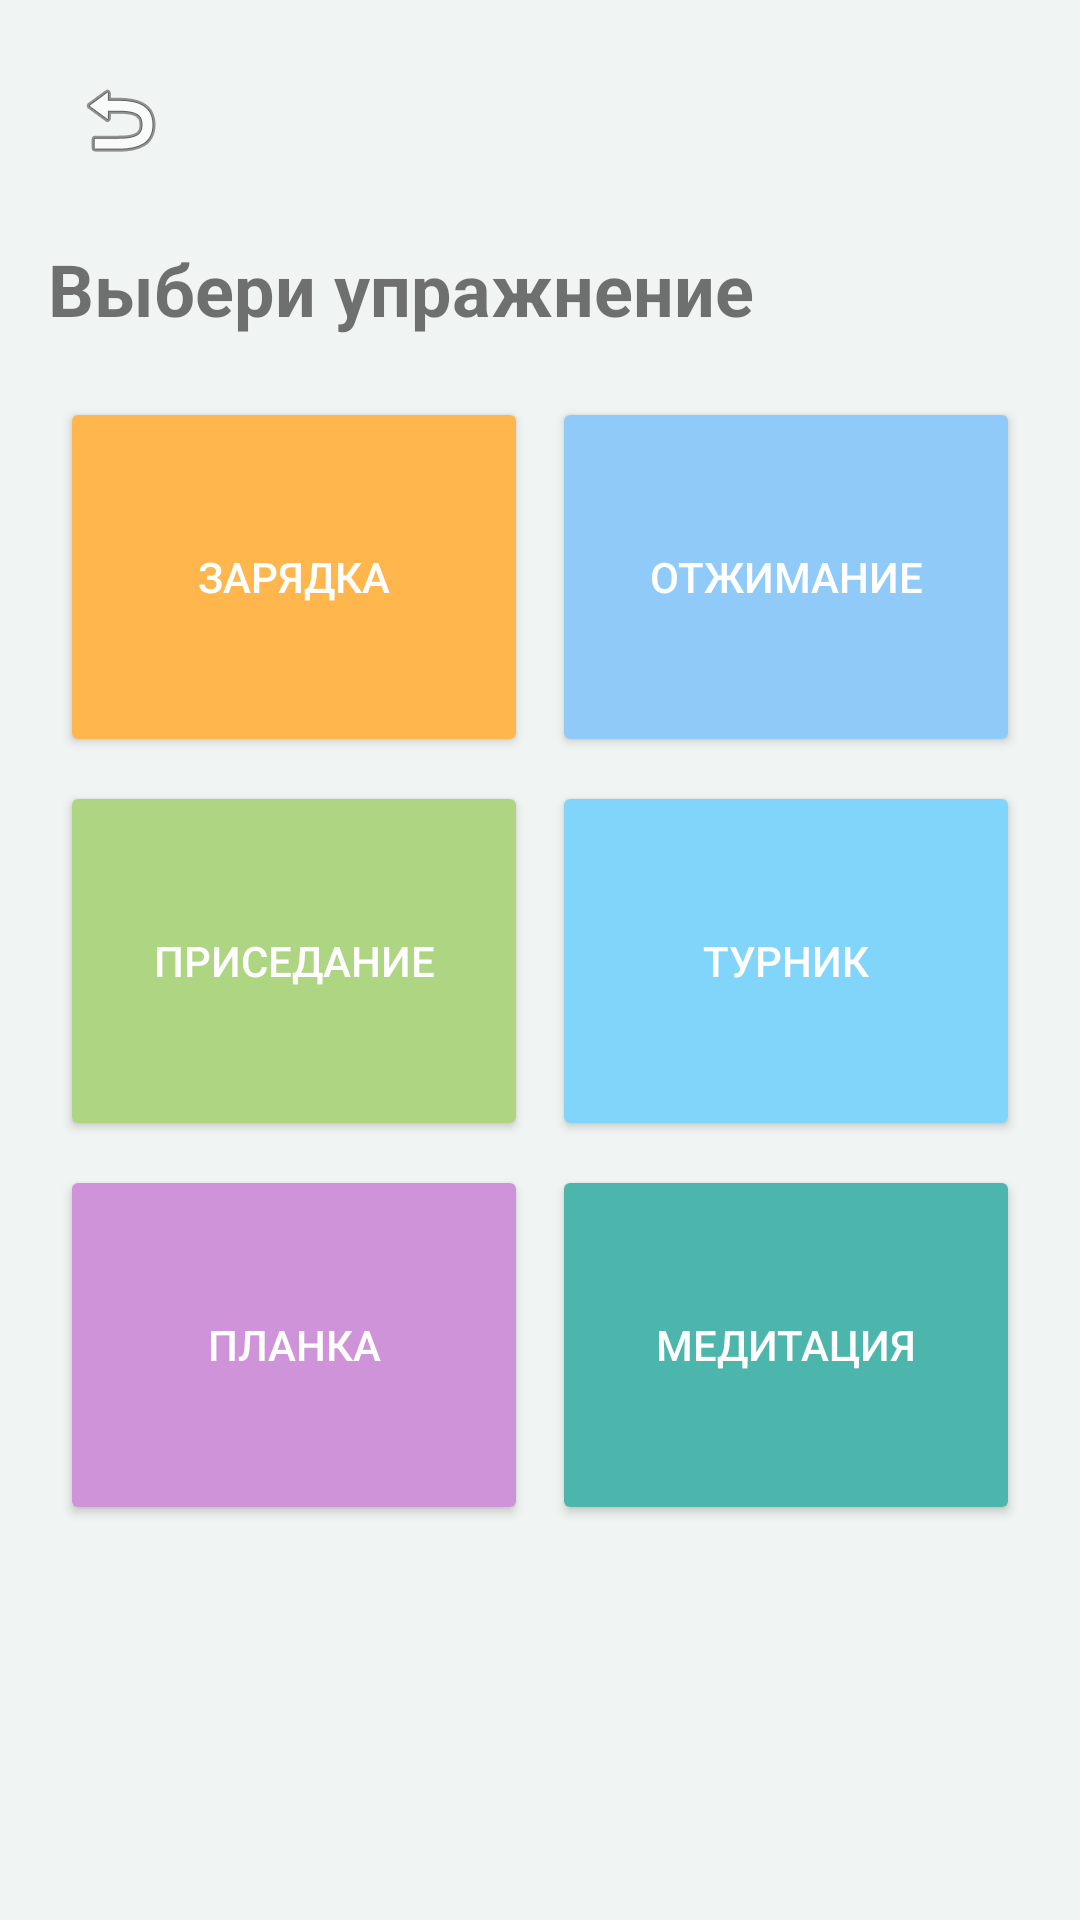

Screen size 1080 x 1920. Icon name, then its box in pixels as (x1, y1, x2, y2):
Назад: (87, 89, 156, 152)
